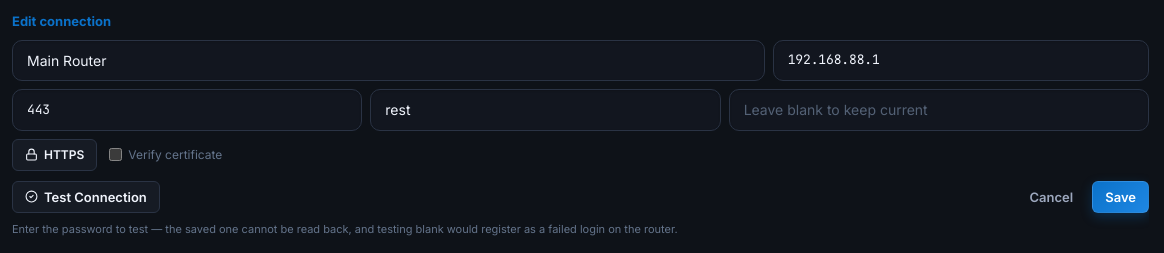
Scenario: transport › switches port with the scheme, since the two always move together
The image size is (1164, 253).
Click the button "HTTPS": (55,155) top-left (12, 139), bottom-right (97, 171)
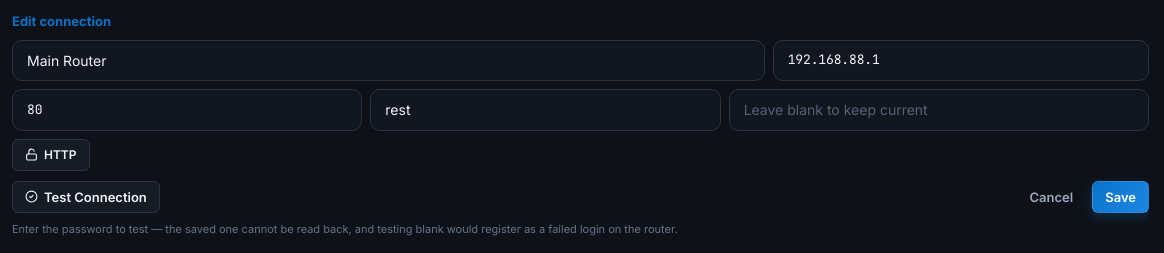
Expected: the number field showing "80" is shown, top-left (12, 89), bottom-right (362, 131)
